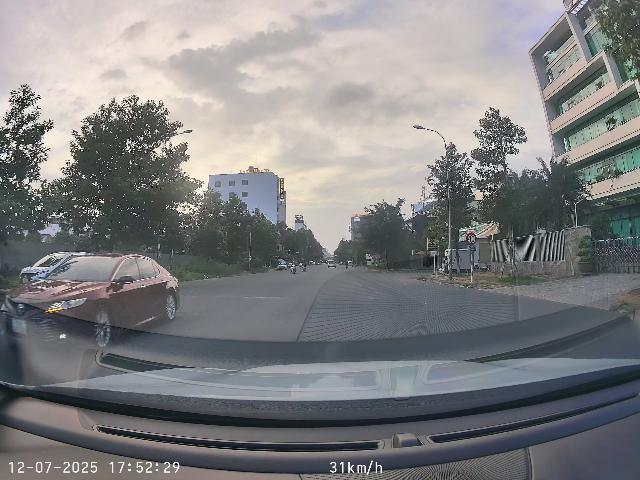127-toc-do-toi-da-40: (466, 232, 477, 245)
